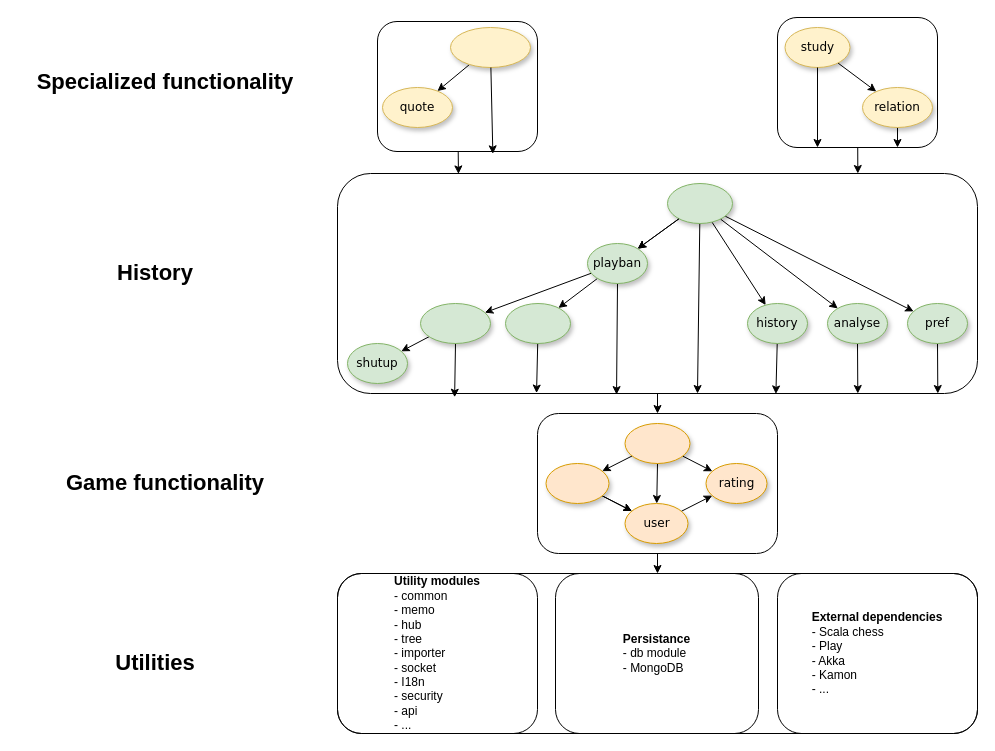
Image size: 995x751. Some labels were removed from this diagram. The centre of each missing label's shape, as x and y in pixels:
chat: the point at 578,484
game: the point at 658,444
message: the point at 456,324
notify: the point at 538,324
round: the point at 700,204
tournament: the point at 491,48
